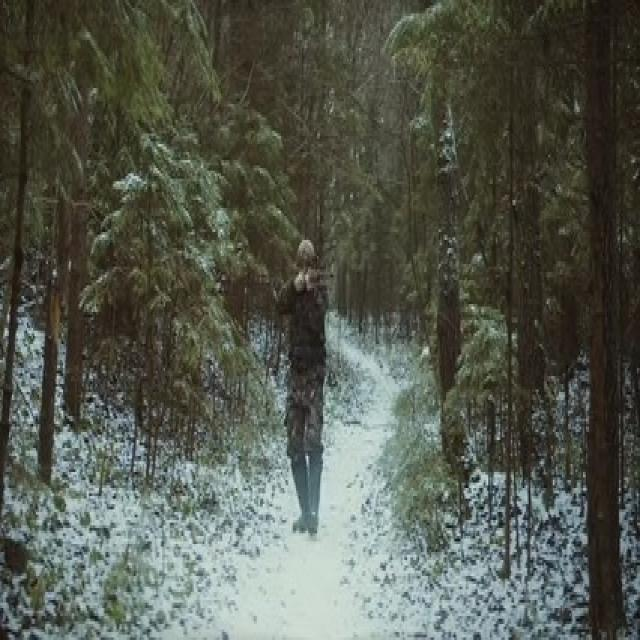Gun_Holder: (299, 266, 341, 290)
Person: (285, 235, 334, 536)
